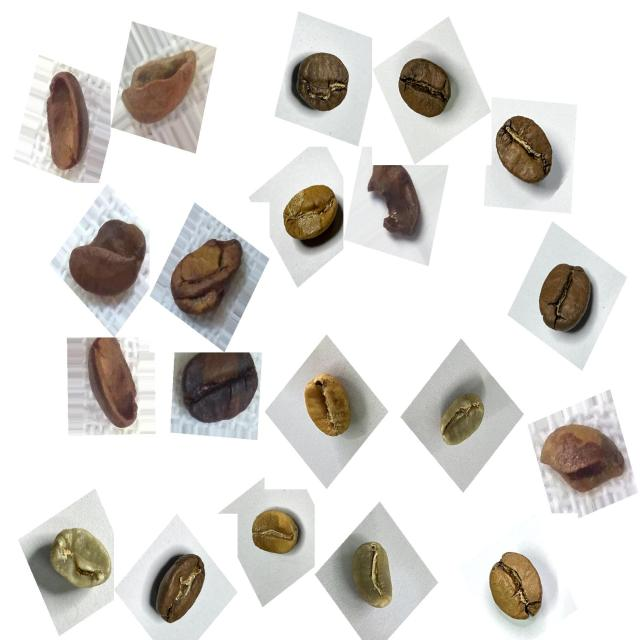bad: (532, 404, 632, 507), (64, 206, 156, 317), (164, 226, 251, 334), (115, 39, 200, 137), (35, 62, 99, 182), (81, 329, 150, 437), (174, 348, 260, 434), (364, 154, 434, 252)
green: (35, 516, 118, 606), (338, 531, 406, 621), (432, 378, 497, 459), (238, 495, 308, 568)
light: (474, 538, 553, 634), (272, 167, 347, 260), (294, 361, 364, 452)
medium: (524, 250, 606, 346), (142, 545, 219, 637), (486, 107, 565, 195), (287, 40, 360, 126), (389, 48, 462, 129)
